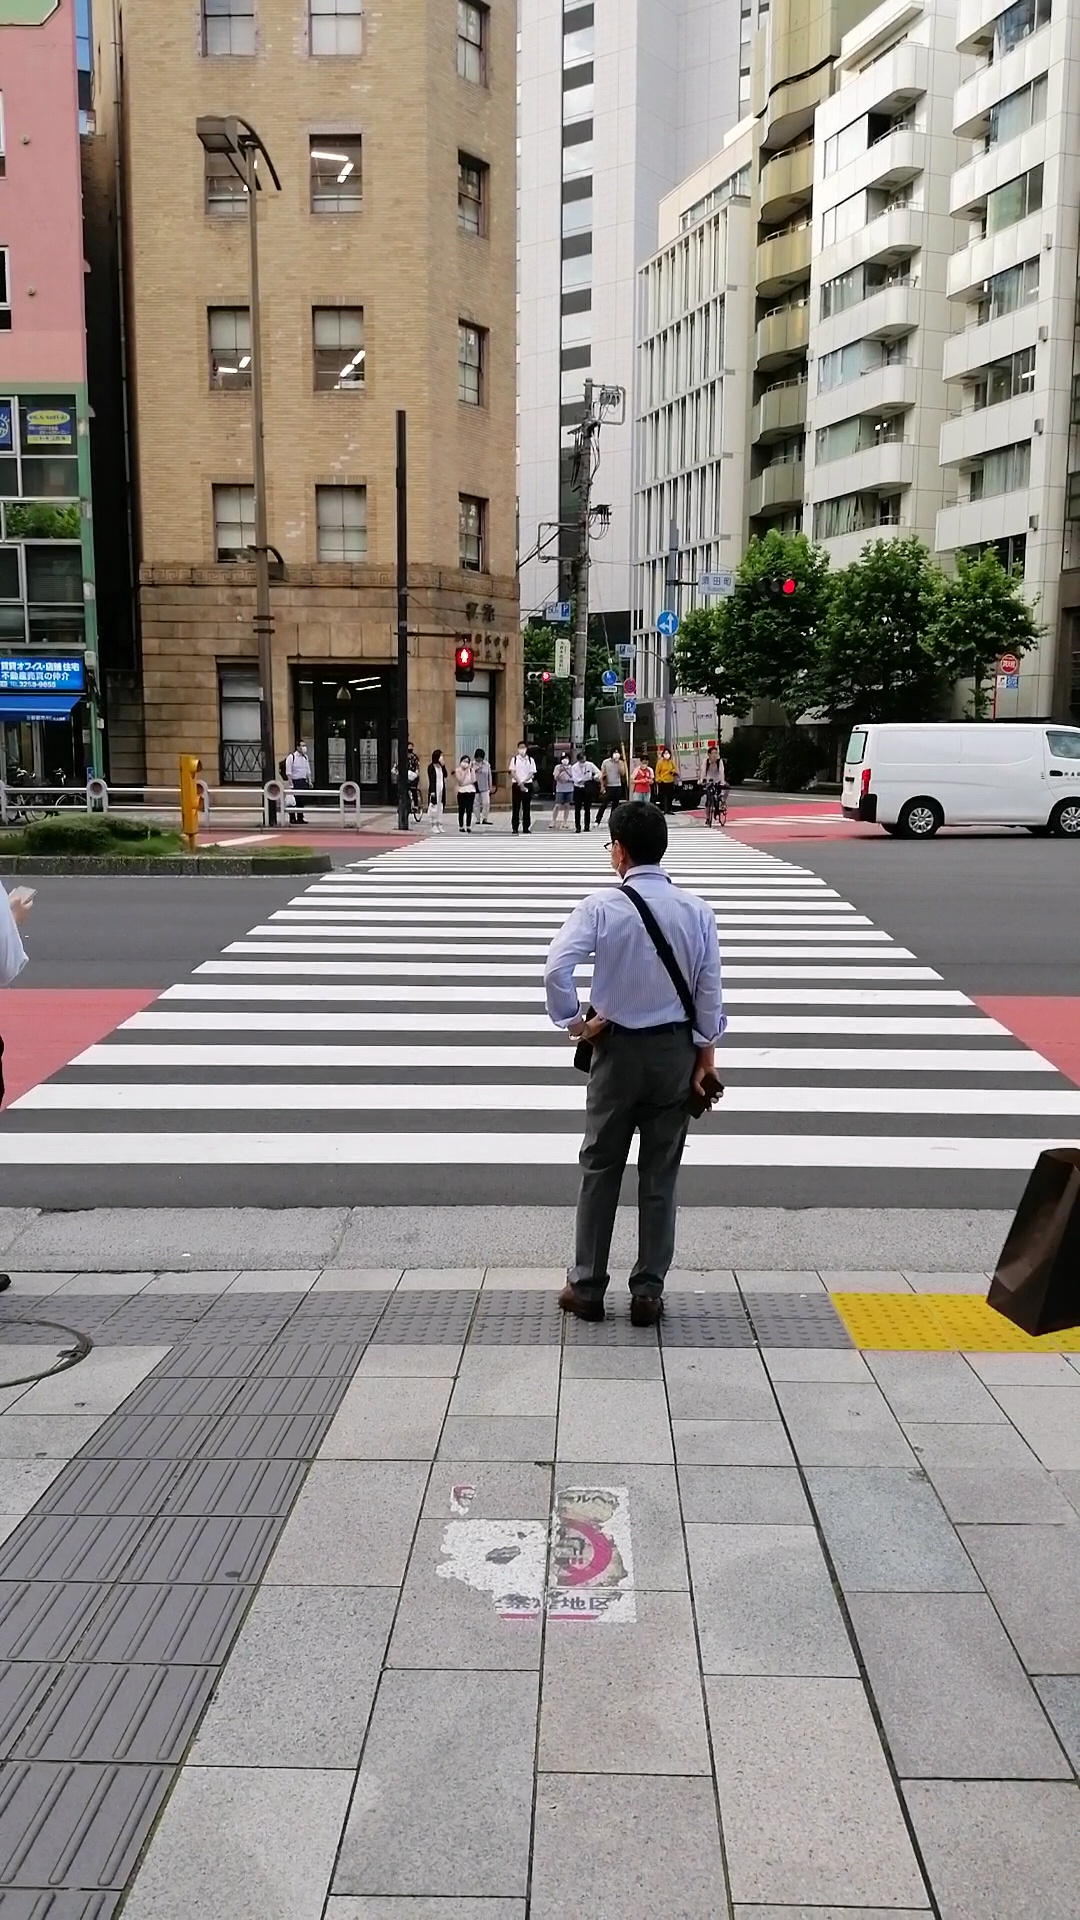red: (454, 647, 473, 684)
